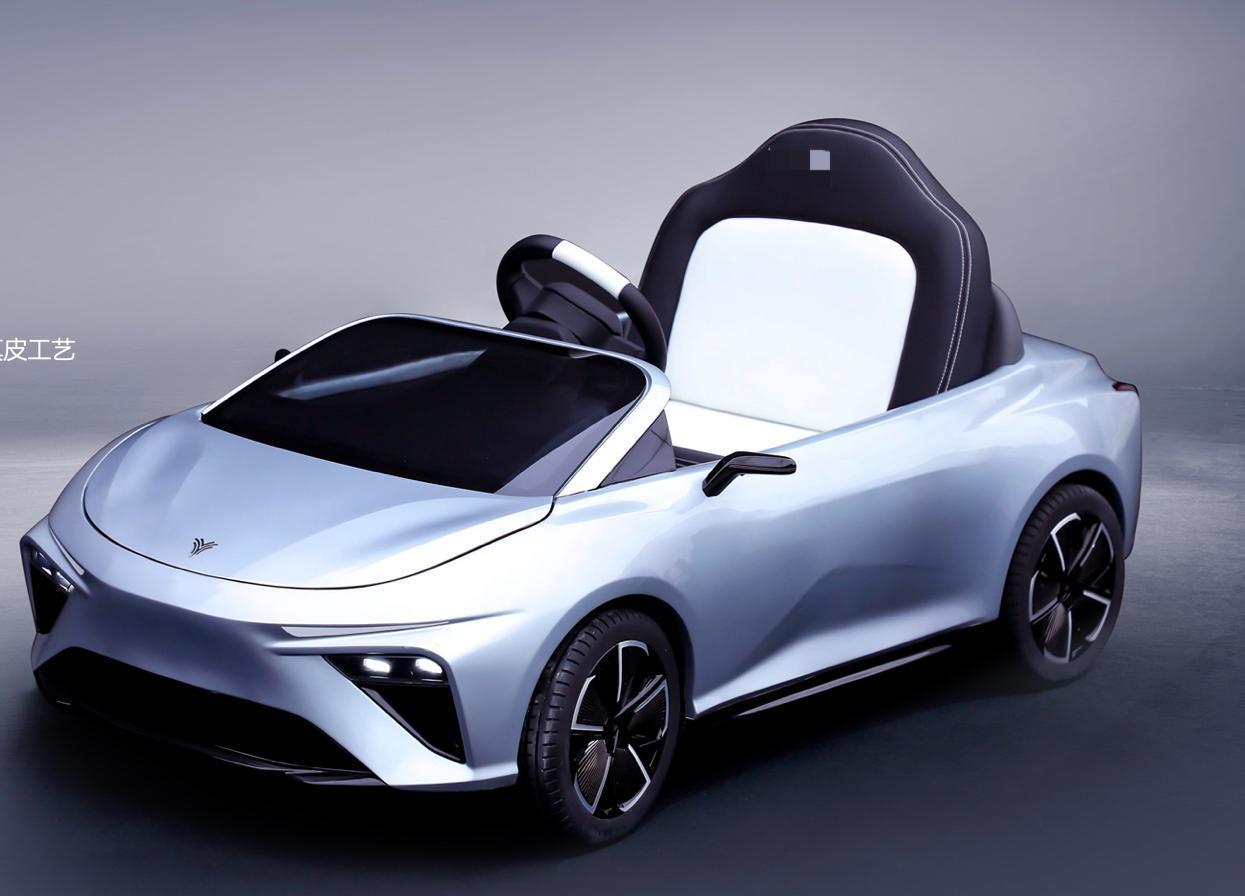NETA: (188, 536, 218, 560)
